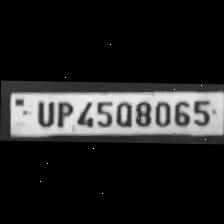0: (151, 98, 171, 126)
4: (73, 98, 95, 128)
5: (189, 96, 213, 127), (92, 98, 112, 128)
6: (170, 98, 190, 127)
8: (132, 98, 152, 127)
P: (52, 98, 74, 128)
Q: (112, 98, 132, 126)
U: (31, 98, 55, 128)
